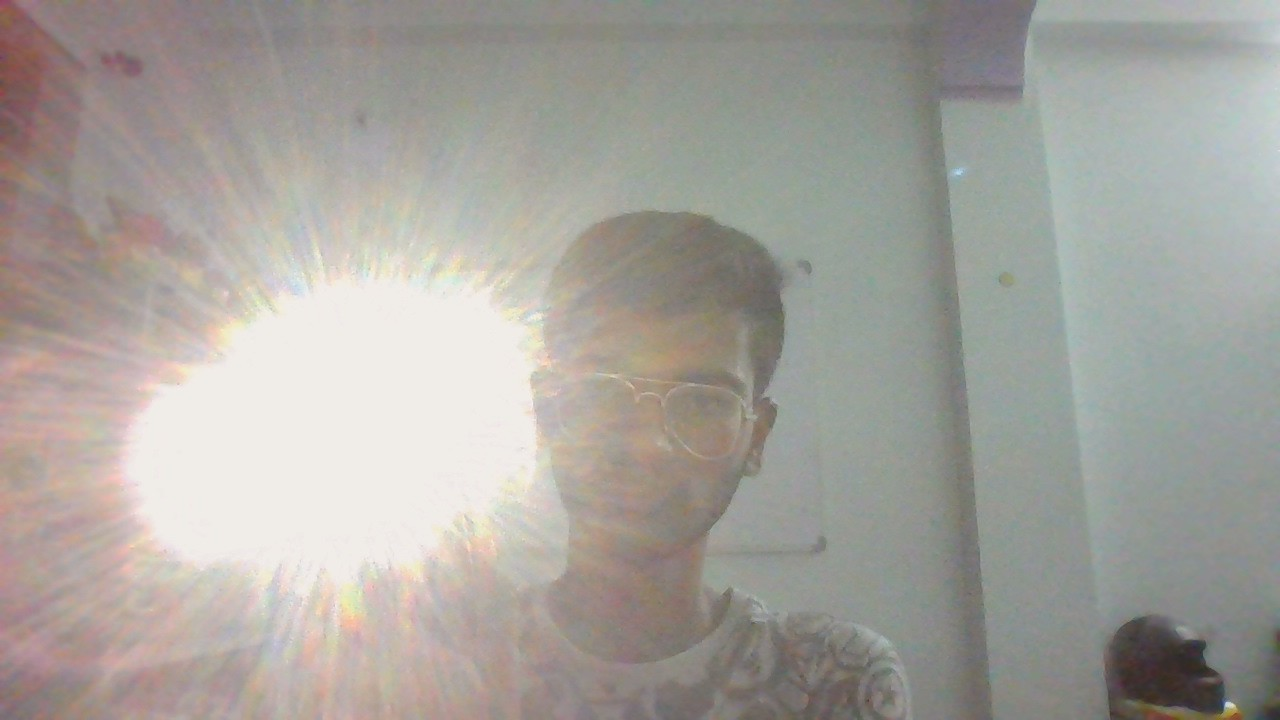Glare: (101, 286, 542, 571)
